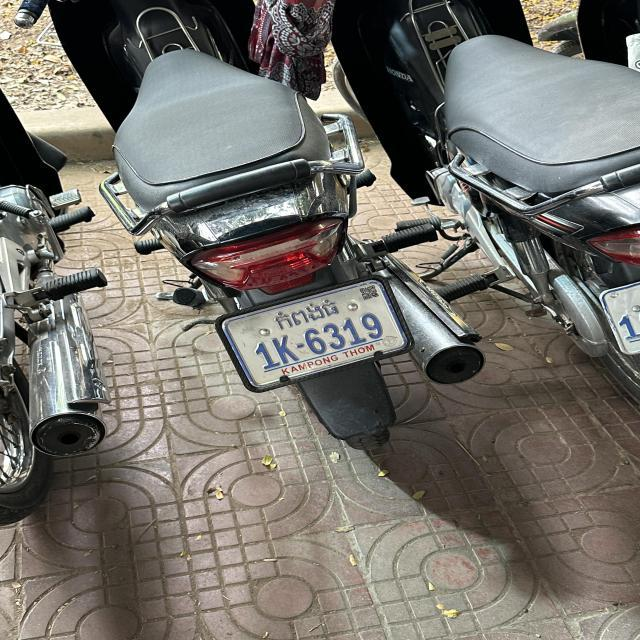Kampong_Thom: (273, 299, 338, 330)
